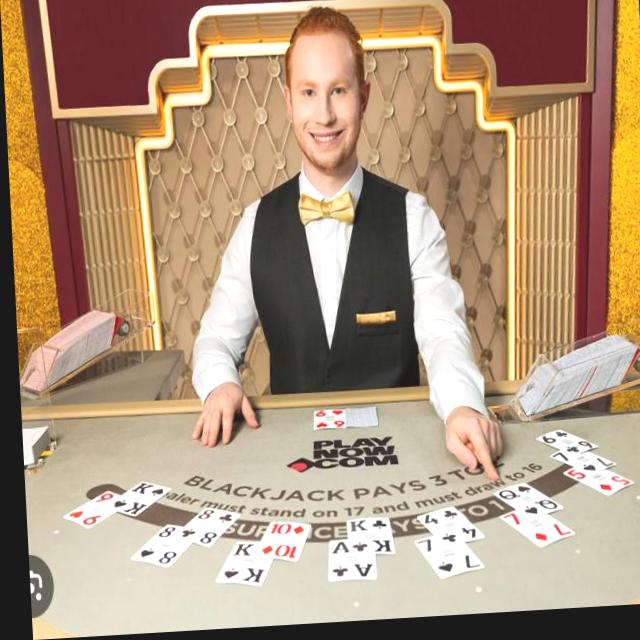Card-10: (253, 525, 304, 563)
Card-4: (412, 510, 477, 550)
Card-5: (559, 475, 627, 505)
Card-6: (531, 436, 592, 461), (309, 410, 340, 434)
Card-7: (496, 513, 569, 555), (408, 541, 477, 585), (545, 457, 607, 478)
Card-8: (125, 522, 186, 571), (175, 508, 234, 549)
Card-9: (55, 490, 114, 530)
Card-A: (323, 541, 370, 582)
Card-K: (210, 543, 266, 587), (104, 482, 165, 519), (341, 523, 387, 557)
Card-Q: (488, 487, 555, 524)
